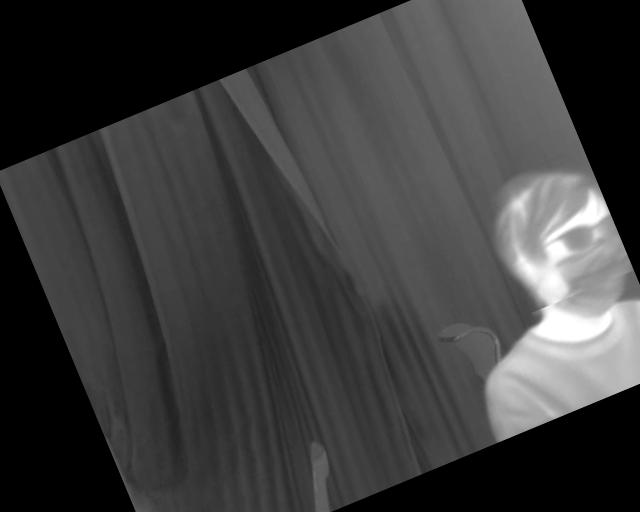face: (473, 152, 640, 343)
